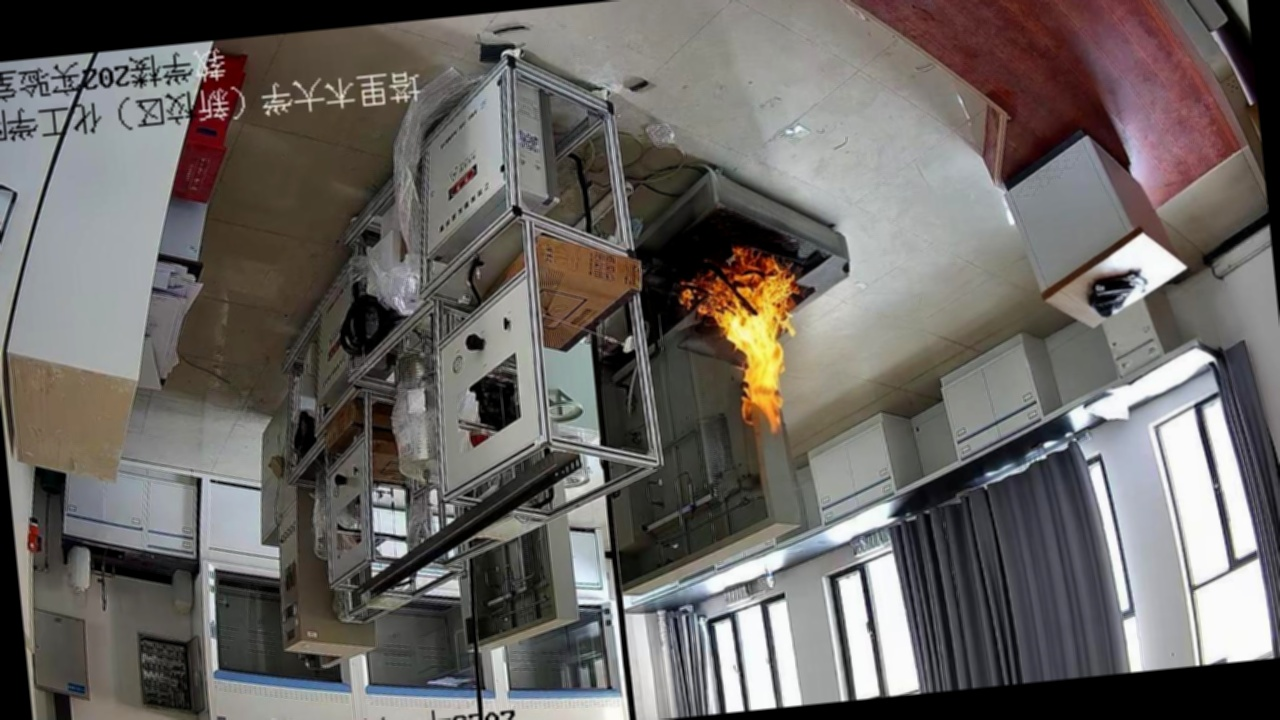fire: (672, 250, 817, 439)
